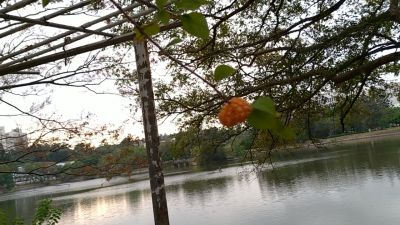eggs: (217, 96, 254, 127)
